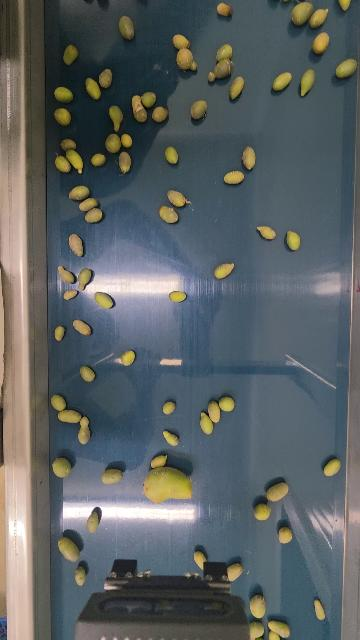Baby Potato: (143, 466, 192, 505), (288, 1, 314, 26), (56, 536, 80, 562), (331, 56, 359, 78), (173, 49, 199, 72), (208, 60, 233, 83), (307, 6, 331, 29), (64, 149, 85, 175), (51, 456, 73, 478), (249, 595, 269, 619), (269, 617, 293, 637), (158, 205, 180, 226), (195, 413, 215, 436), (266, 482, 290, 501), (299, 66, 314, 96), (83, 77, 102, 100), (241, 144, 257, 171), (226, 75, 243, 100), (188, 99, 208, 120), (312, 32, 331, 54), (210, 262, 236, 278), (75, 269, 93, 292), (68, 233, 85, 257), (107, 106, 122, 133), (206, 398, 221, 425), (167, 188, 187, 208), (117, 17, 136, 38), (94, 290, 113, 311), (132, 95, 146, 123), (323, 456, 340, 479), (220, 169, 246, 184), (102, 134, 122, 153), (71, 319, 92, 337), (116, 152, 132, 175), (77, 416, 90, 444), (284, 231, 303, 250), (217, 394, 236, 413), (99, 469, 123, 484), (276, 528, 296, 546), (255, 225, 276, 242), (227, 561, 244, 582), (53, 87, 75, 103), (214, 43, 233, 61), (150, 104, 169, 122), (162, 147, 181, 165), (53, 154, 71, 173), (273, 71, 290, 91), (58, 264, 74, 285), (58, 409, 82, 423), (53, 109, 72, 126), (246, 621, 263, 640), (98, 68, 114, 88), (82, 208, 102, 224), (67, 188, 91, 201), (163, 429, 178, 449), (170, 36, 191, 50), (78, 366, 95, 383), (255, 503, 271, 521), (314, 599, 327, 621), (63, 45, 77, 65), (148, 455, 169, 468), (87, 513, 100, 534), (141, 91, 158, 107), (118, 350, 135, 366), (50, 393, 65, 411), (193, 551, 206, 570), (168, 291, 187, 303), (217, 3, 233, 17), (59, 137, 75, 151), (79, 197, 97, 209), (161, 401, 177, 414), (90, 154, 107, 166), (54, 326, 66, 343), (120, 134, 134, 148), (75, 565, 84, 585), (63, 289, 78, 300), (266, 630, 282, 640), (337, 0, 351, 10)
